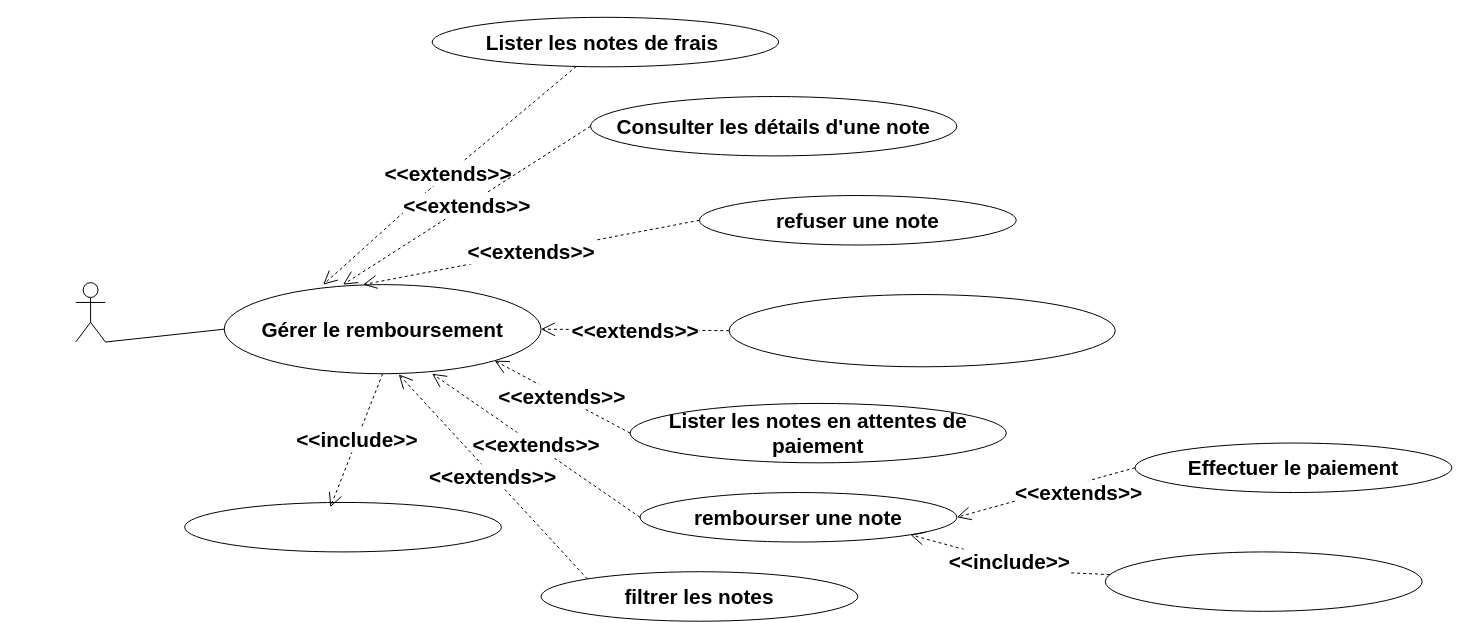
The diagram is 1469 pixels wide and 639 high, and some of its shapes have lost their labels. Each missing label, with the box of its shape:
Administrateur: (75, 282, 105, 342)
Consulter l'archive des notes traitées: (728, 294, 1115, 367)
Consulter ordre de paiement: (1104, 551, 1422, 611)
s'authentifier: (184, 501, 501, 552)
